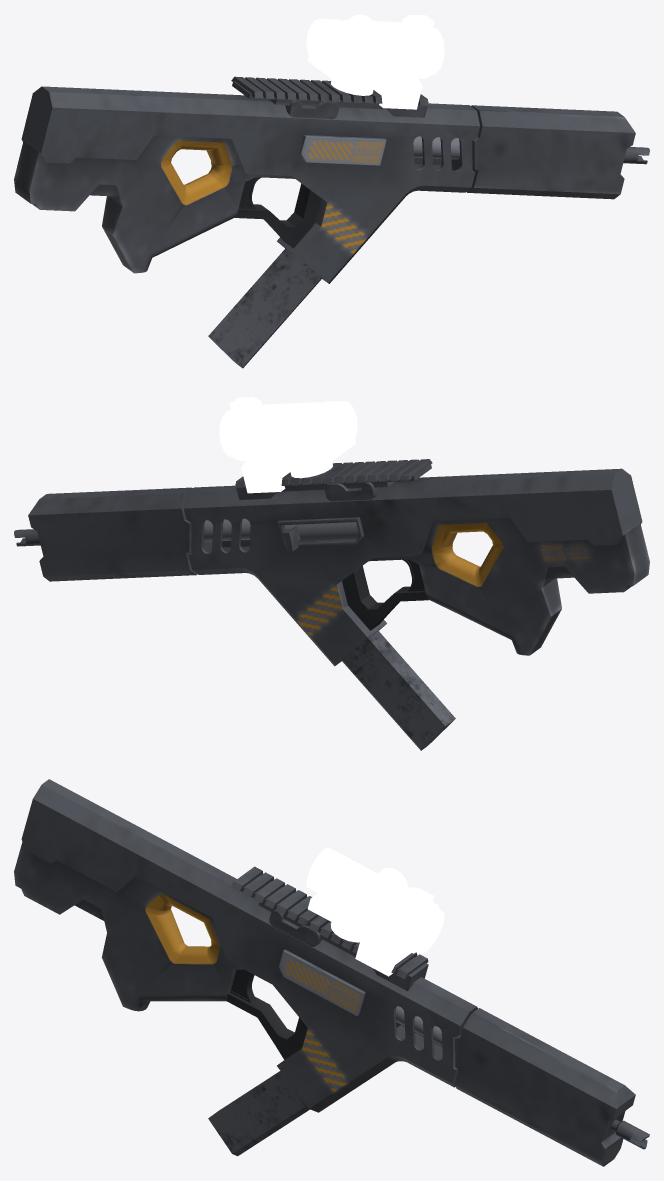
File: Mid_Bullpup.glb
The picture shows the model from 3 angles, top to bottom: view 1: azimuth 30°, elevation 25°; view 2: azimuth 150°, elevation 25°; view 3: azimuth 330°, elevation 25°; orthographic projection.
Parts seen in each view (by area): view 1: Cube.015_MainWeapon_0, Cylinder.006_Scope_0, Cube.016_Clip_0; view 2: Cube.015_MainWeapon_0, Cylinder.006_Scope_0, Cube.016_Clip_0; view 3: Cube.015_MainWeapon_0, Cylinder.006_Scope_0, Cube.016_Clip_0.
Part boxes in pixels (x1=…): Cube.015_MainWeapon_0: x1=14, y1=76, x2=649, y2=283; Cylinder.006_Scope_0: x1=306, y1=14, x2=444, y2=109; Cube.016_Clip_0: x1=208, y1=248, x2=322, y2=368; Cube.015_MainWeapon_0: x1=14, y1=459, x2=649, y2=666; Cylinder.006_Scope_0: x1=219, y1=397, x2=357, y2=493; Cube.016_Clip_0: x1=341, y1=630, x2=455, y2=750; Cube.015_MainWeapon_0: x1=14, y1=779, x2=649, y2=1166; Cylinder.006_Scope_0: x1=306, y1=847, x2=444, y2=976; Cube.016_Clip_0: x1=208, y1=1071, x2=309, y2=1156.
Bounding box in the file's own units: 2.75 × 1.36 × 0.2529.
3 materials, 3 textured.
